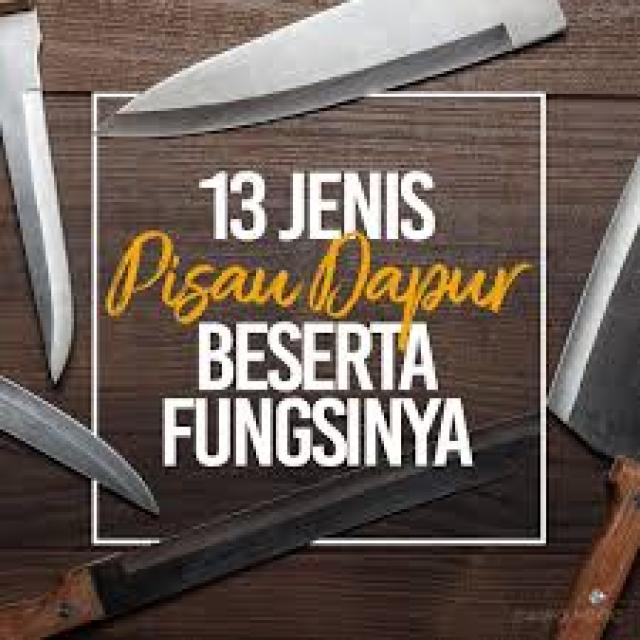Knife: (71, 23, 590, 151)
